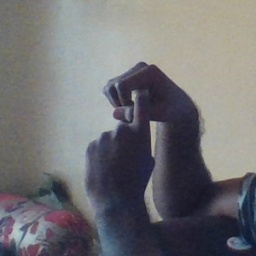Q: (79, 60, 177, 181)
